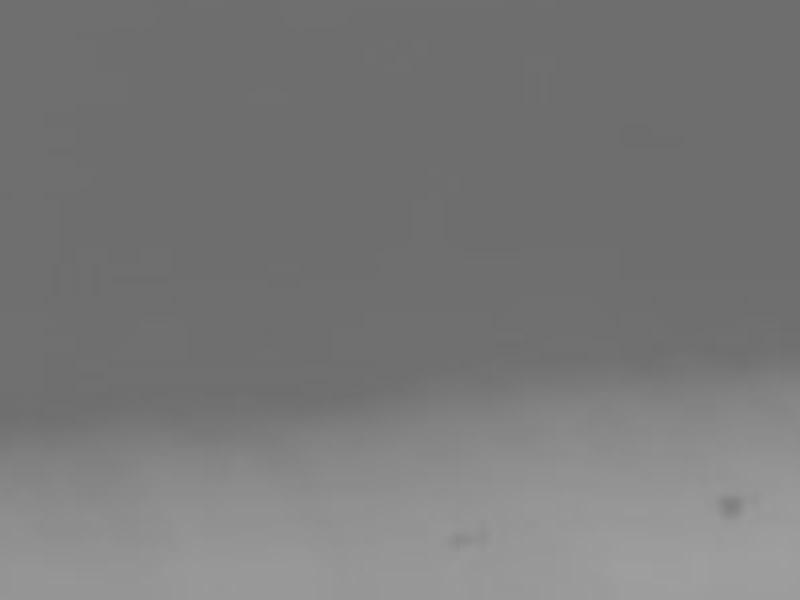defect: (715, 495, 743, 518), (446, 528, 471, 549), (475, 517, 492, 545)
